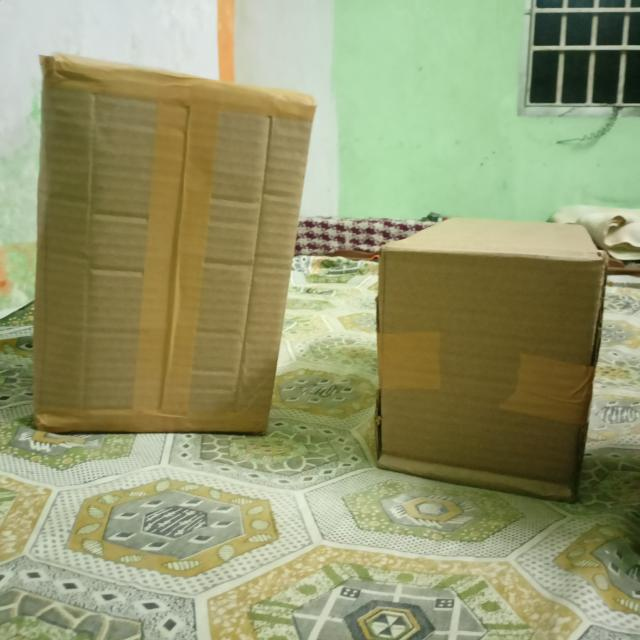box: (34, 63, 315, 436)
